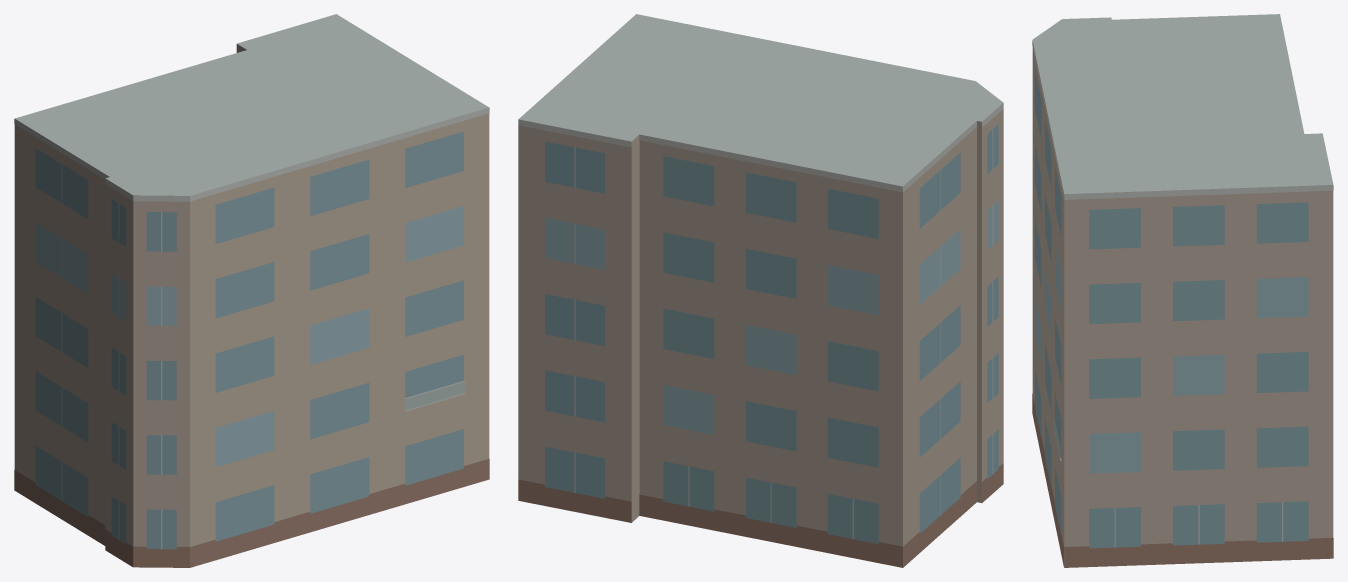
File: survey-upis-32747355.glb
3 views of the same model, side by side, from view 1: azimuth 30°, elevation 25°; view 2: azimuth 150°, elevation 25°; view 3: azimuth 270°, elevation 25° (orthographic). The views are drawn at different scales.
Parts seen in each view (by area): view 1: survey-upis-32747355.tmp; view 2: survey-upis-32747355.tmp; view 3: survey-upis-32747355.tmp.
Part boxes in pixels (x1,y1,x2,y2): survey-upis-32747355.tmp: (14,14,489,567); survey-upis-32747355.tmp: (518,14,1003,567); survey-upis-32747355.tmp: (1032,14,1333,567).
Size of the model in its own units: 16.35 by 15.8 by 11.55.
